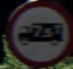Heavy Vehicles: (7, 3, 65, 60)
